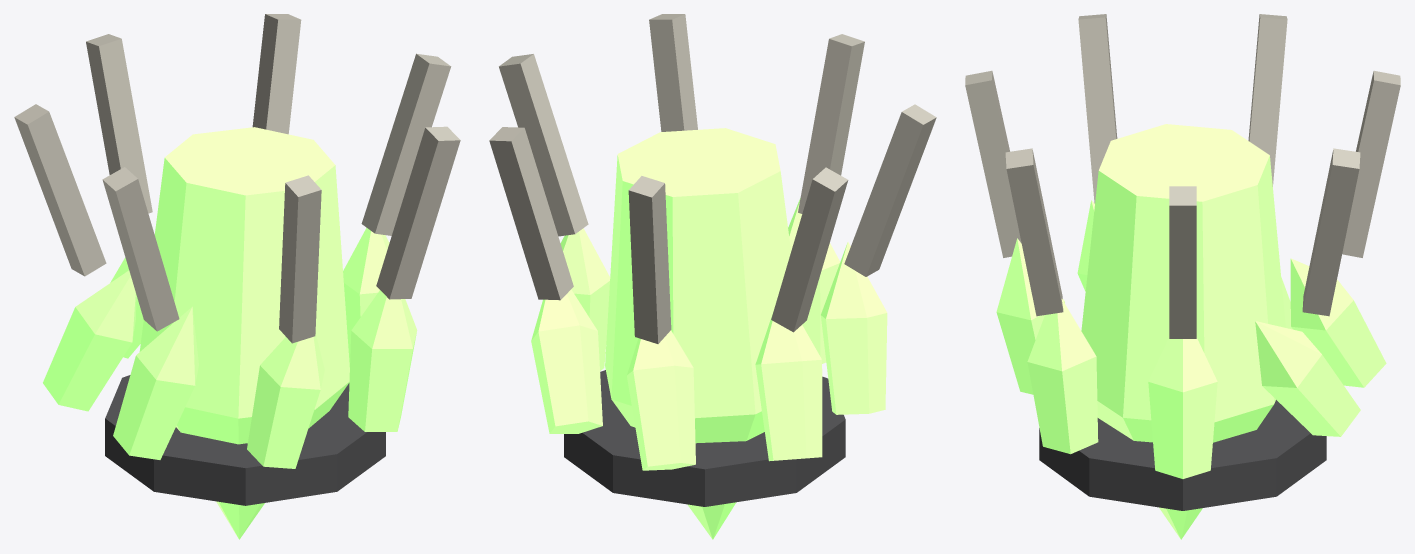
Rendered from boss-bonemass-rotheart.glb.
3 renders of one model, left to right at view 1: azimuth 30°, elevation 25°; view 2: azimuth 150°, elevation 25°; view 3: azimuth 270°, elevation 25°, orthographic. The views are drawn at different scales.
Parts seen in each view (by area): view 1: rot-core, rot-band, rot-nodule-3, rot-nodule-4, rot-nodule-1, rot-nodule-2, thorn-1, thorn-0, thorn-4, thorn-2, thorn-3, thorn-5 (+3 smaller); view 2: rot-core, rot-band, rot-nodule-3, rot-nodule-6, rot-nodule-4, rot-nodule-5, thorn-6, thorn-0, thorn-3, thorn-5, thorn-4, thorn-2 (+3 smaller); view 3: rot-core, rot-band, rot-nodule-0, rot-nodule-1, rot-nodule-6, rot-nodule-5, thorn-6, thorn-1, thorn-5, thorn-2, thorn-0, thorn-3 (+3 smaller).
Part boxes in pixels (x1,y1,x2,y2): rot-core: (139,127,349,539); rot-band: (105,375,385,505); rot-nodule-3: (113,306,198,459); rot-nodule-4: (43,270,136,411); rot-nodule-1: (348,290,417,431); rot-nodule-2: (247,334,324,468); thorn-1: (376,126,460,299); thorn-0: (361,53,451,235); thorn-4: (14,104,106,276); thorn-2: (279,175,321,343); thorn-3: (102,167,179,331); thorn-5: (86,34,152,213); rot-core: (605,128,790,539); rot-band: (564,370,845,506); rot-nodule-3: (820,242,887,414); rot-nodule-6: (531,289,602,433); rot-nodule-4: (755,313,822,461); rot-nodule-5: (627,330,695,470); thorn-6: (489,127,573,300); thorn-0: (499,54,588,236); thorn-3: (844,104,936,276); thorn-5: (628,176,671,343); thorn-4: (771,167,848,332); thorn-2: (798,34,864,213); rot-core: (1081,124,1285,539); rot-band: (1039,400,1326,510); rot-nodule-0: (1148,338,1217,478); rot-nodule-1: (1027,299,1098,454); rot-nodule-6: (1255,321,1360,436); rot-nodule-5: (1290,258,1386,387); thorn-6: (1302,148,1360,316); thorn-1: (1005,148,1063,316); thorn-5: (1342,70,1400,257); thorn-2: (965,70,1021,257); thorn-0: (1169,186,1196,338); thorn-3: (1078,14,1117,203).
Size of the model in its own units: 0.7376 by 0.8135 by 0.7168.
